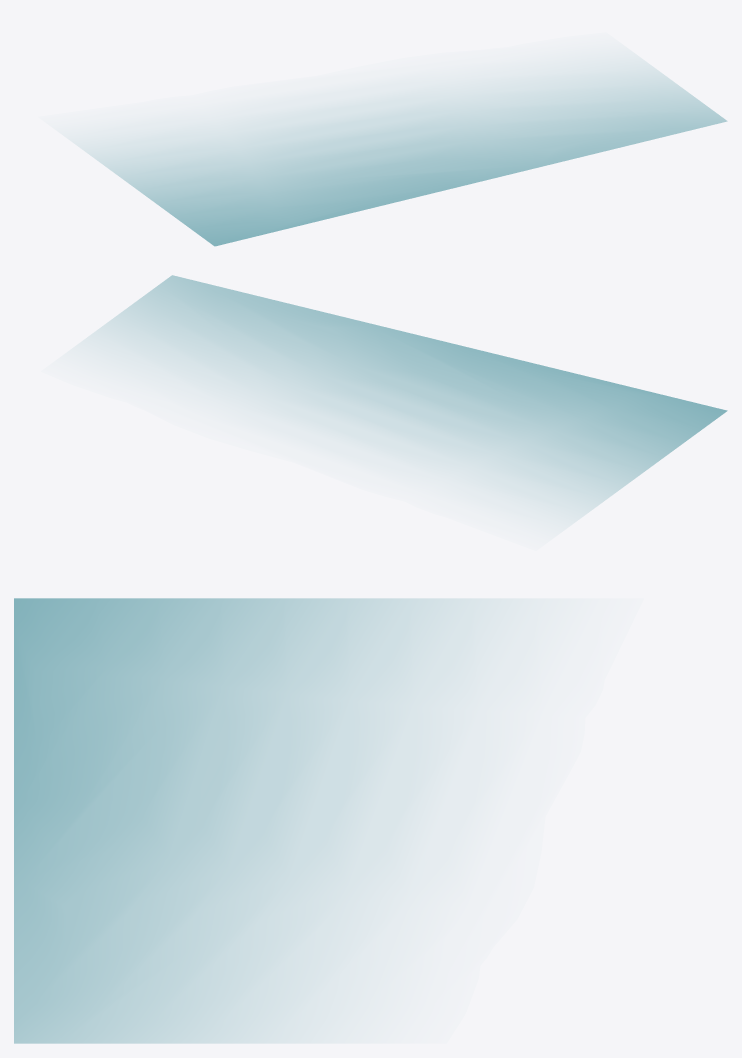
3 renders of one model, top to bottom at view 1: azimuth 30°, elevation 25°; view 2: azimuth 150°, elevation 25°; view 3: azimuth 270°, elevation 25°, orthographic. The views are drawn at different scales.
Visible parts, largest first — view 1: city; view 2: city; view 3: city.
Boxes of the visible parts, left/top/right/bottom form: city: left=73, top=59, right=727, bottom=246; city: left=81, top=275, right=727, bottom=522; city: left=14, top=598, right=518, bottom=1043.
Size of the model in its own units: 500 by 0 by 339.
